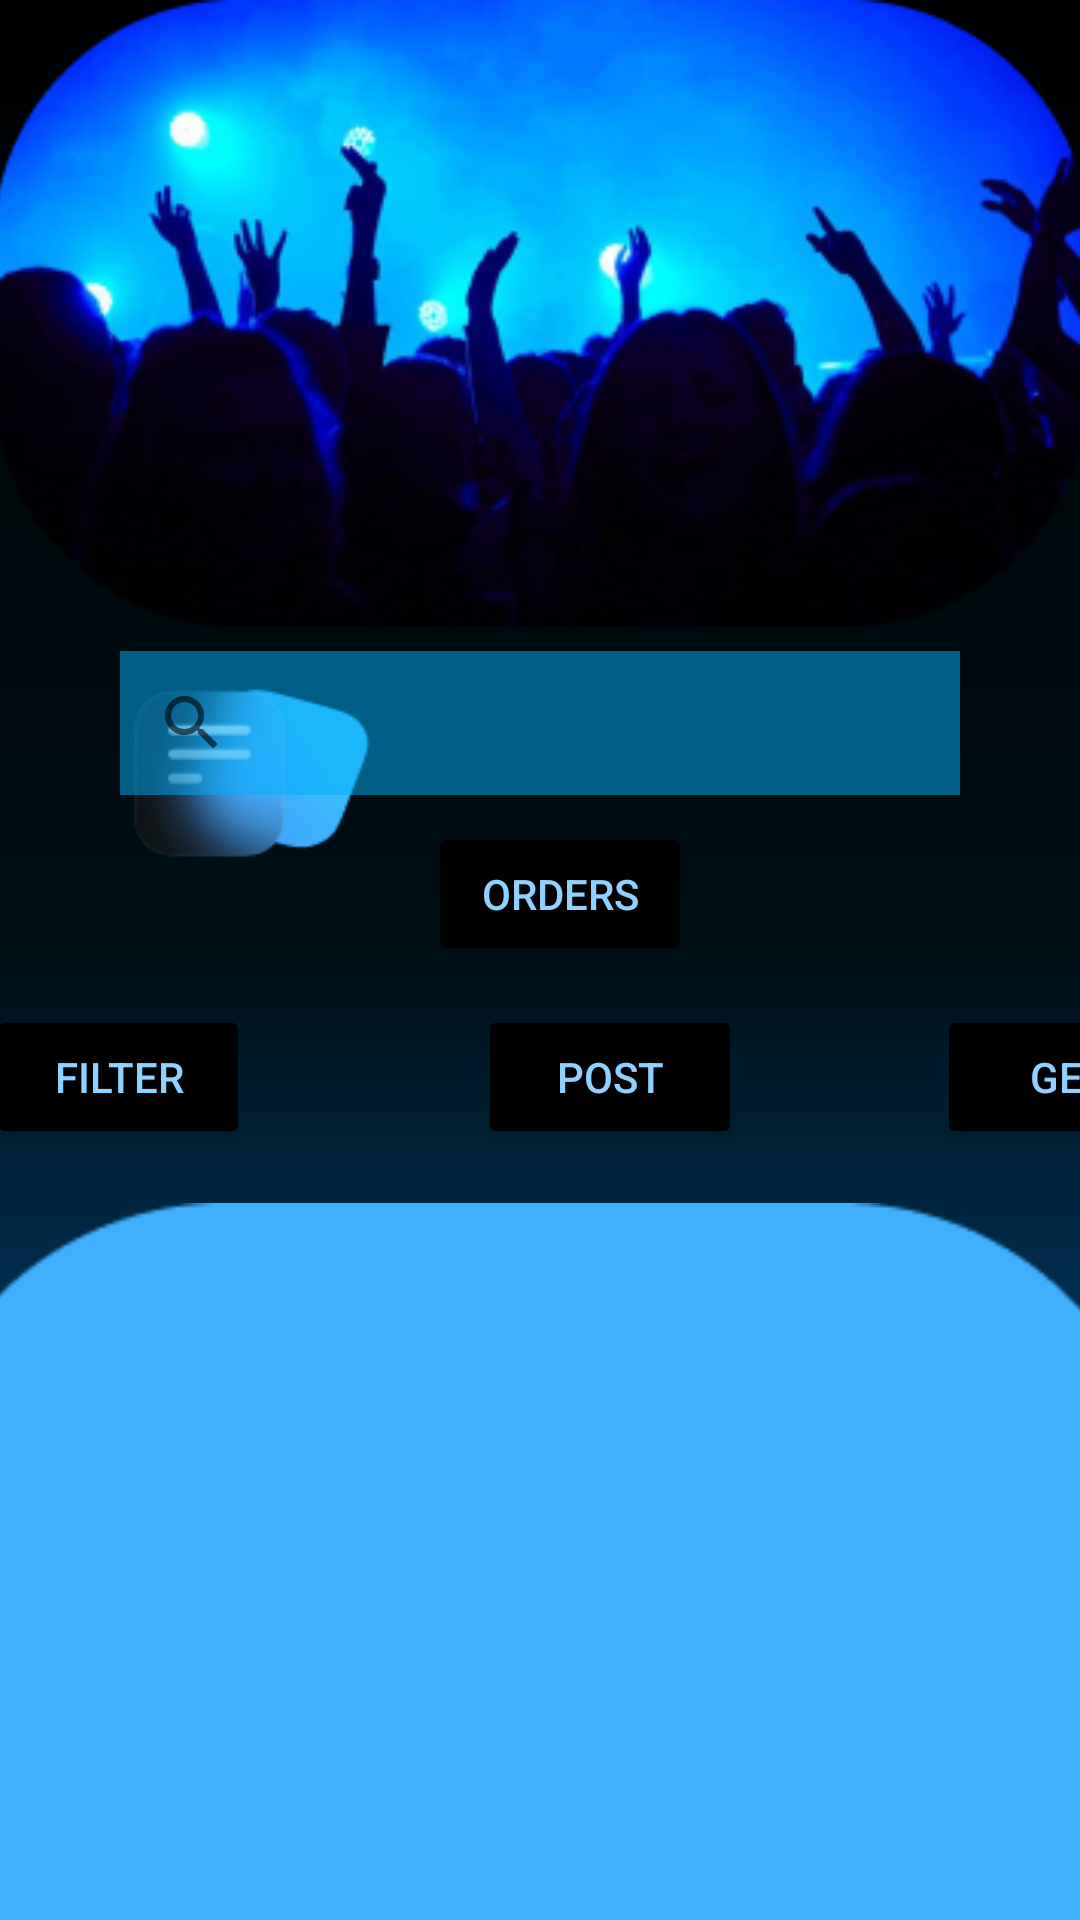

Where icons sit on this 1080px×1920px app screen, as Rect(x1, y1, x2, y2):
search: Rect(120, 651, 420, 857)
